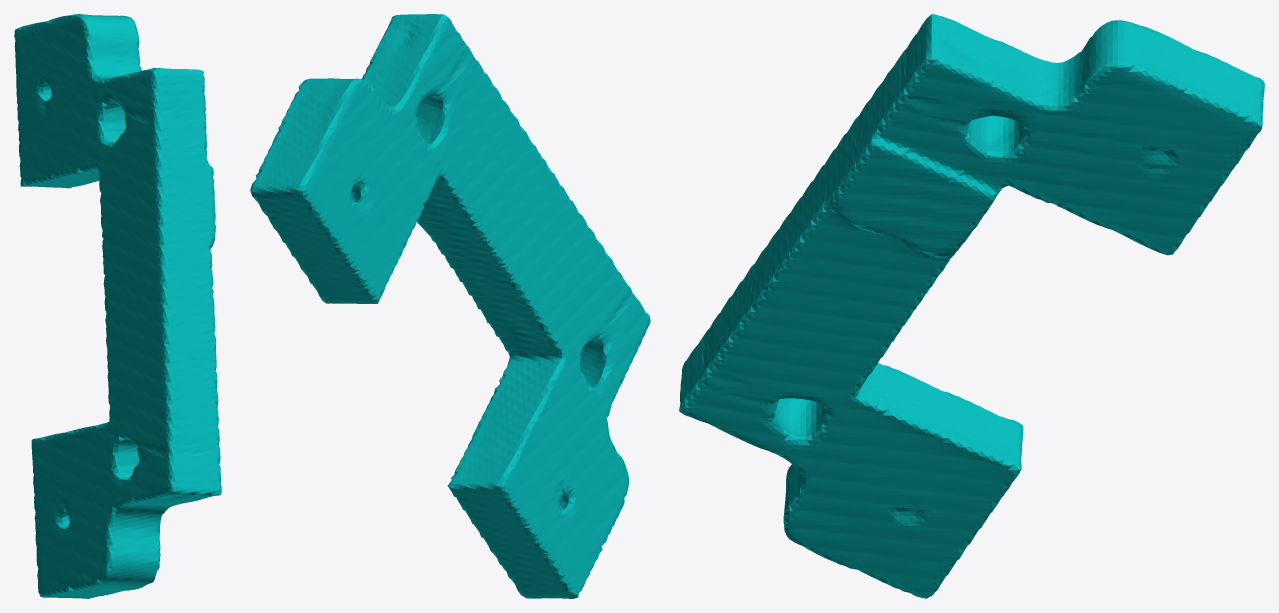
3 views of the same model, side by side, from view 1: azimuth 30°, elevation 25°; view 2: azimuth 150°, elevation 25°; view 3: azimuth 270°, elevation 25° (orthographic). The views are drawn at different scales.
Bounding box in the file's own units: 0.3469 × 0.9931 × 0.8389.
